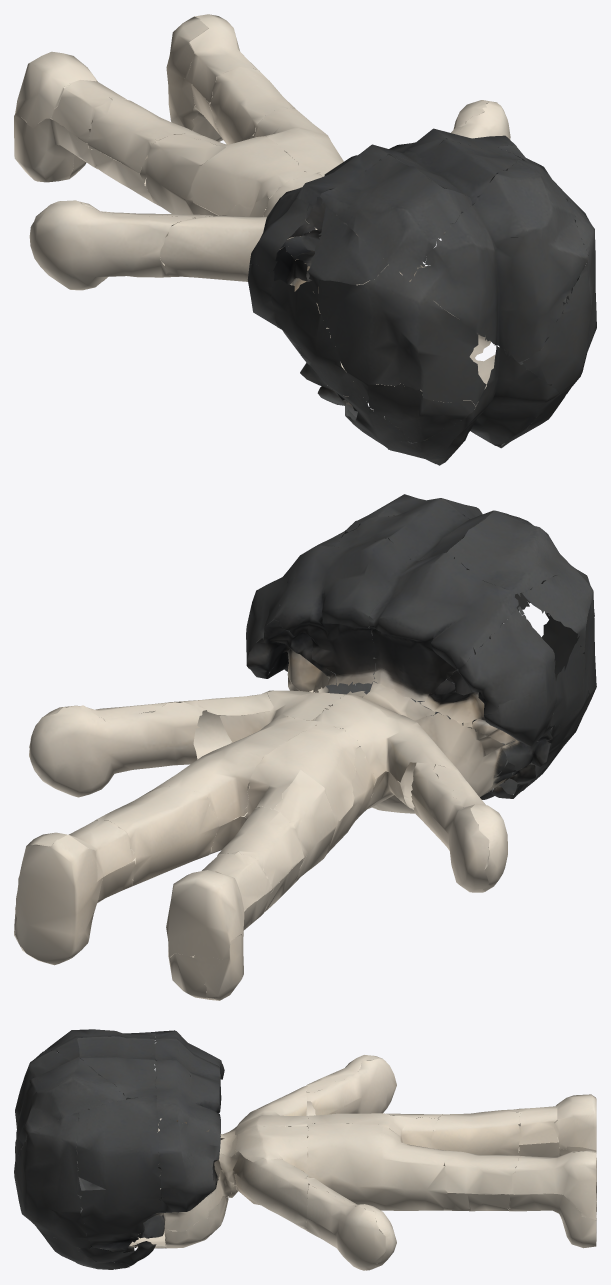
File: character_a_o2.glb
3 views of the same model, one above another, from view 1: azimuth 30°, elevation 25°; view 2: azimuth 150°, elevation 25°; view 3: azimuth 270°, elevation 25° (orthographic). The views are drawn at different scales.
Visible parts, largest first — view 1: Girl_Smirk_cae568, Girl_Smirk_c4f945; view 2: Girl_Smirk_c4f945, Girl_Smirk_cae568; view 3: Girl_Smirk_c4f945, Girl_Smirk_cae568.
Boxes of the visible parts, bbox=[...] form: Girl_Smirk_cae568: bbox=[247, 128, 596, 465]; Girl_Smirk_c4f945: bbox=[14, 14, 510, 290]; Girl_Smirk_c4f945: bbox=[14, 690, 507, 1000]; Girl_Smirk_cae568: bbox=[246, 494, 596, 813]; Girl_Smirk_c4f945: bbox=[232, 1055, 596, 1270]; Girl_Smirk_cae568: bbox=[14, 1029, 237, 1269].
Size of the model in its own units: 0.8379 by 0.477 by 1.2.
Materials: 2 (2 with a texture image).
